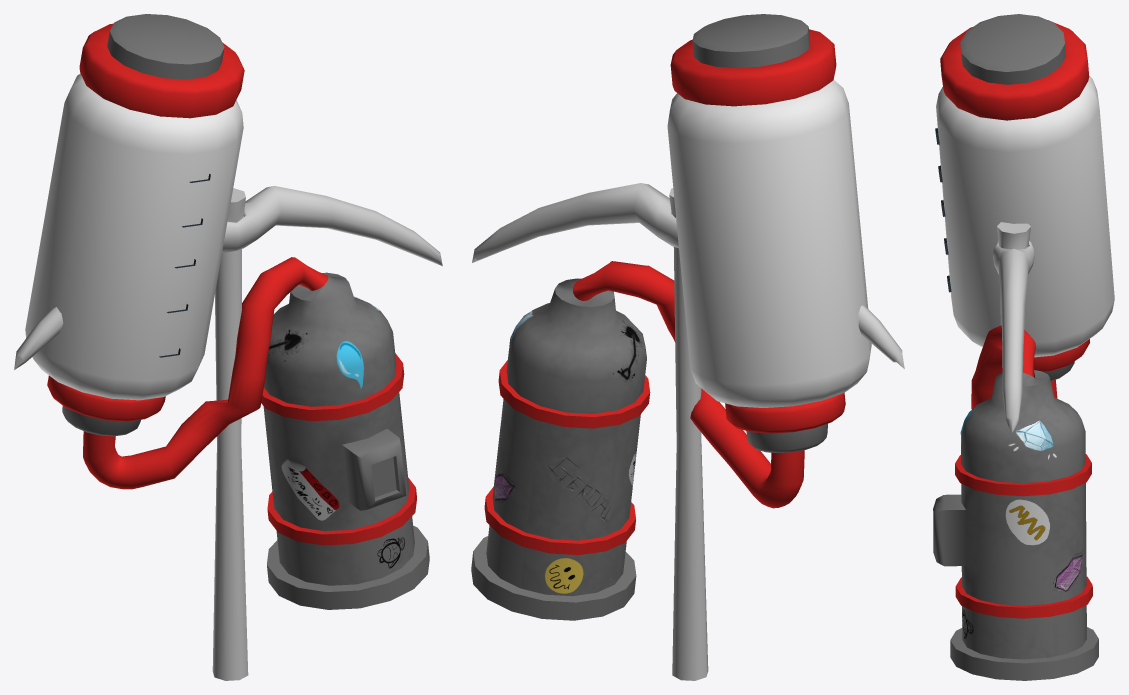
Rendered from ArmasBase.fbx.
3 views of the same model, side by side, from view 1: azimuth 30°, elevation 25°; view 2: azimuth 150°, elevation 25°; view 3: azimuth 270°, elevation 25° (orthographic). The views are drawn at different scales.
Visible parts, largest first — view 1: Tanque, Picareta; view 2: Tanque, Picareta; view 3: Tanque, Picareta.
Part boxes in pixels (x1,y1,x2,y2): Tanque: (25, 14, 429, 609); Picareta: (14, 186, 442, 680); Tanque: (471, 14, 871, 620); Picareta: (472, 183, 904, 680); Tanque: (933, 14, 1114, 680); Picareta: (993, 222, 1034, 432).
Size of the model in its own units: 180 by 264 by 72.54.
